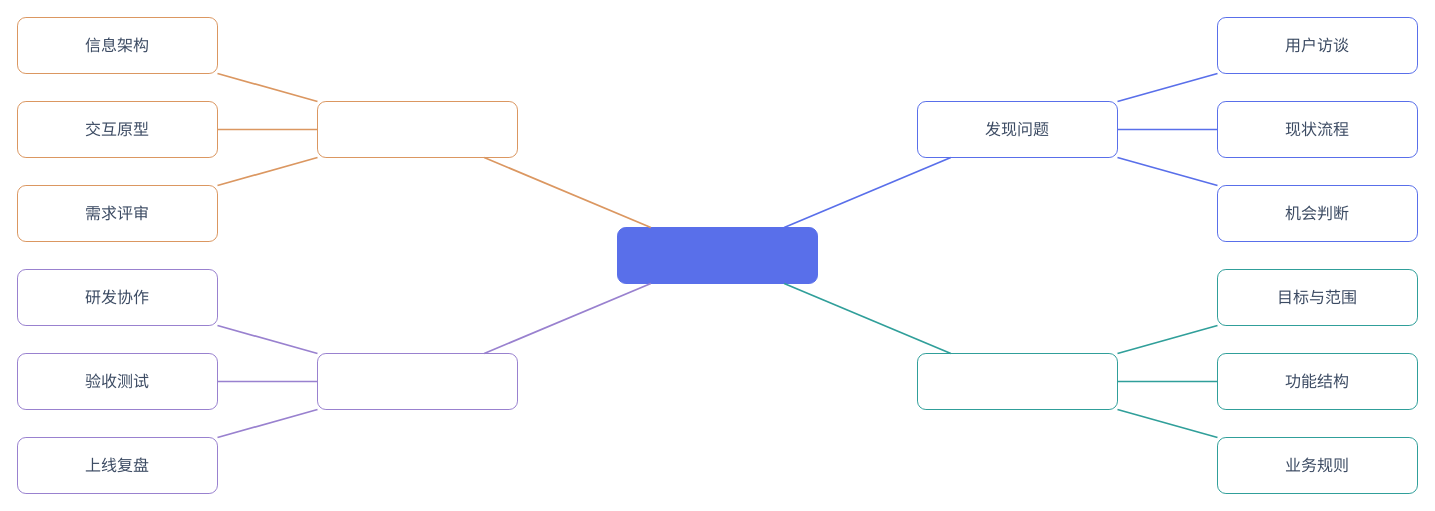
The diagram is 1435 pixels wide and 511 high, and some of its shapes have lost their labels. The centre of each missing label's shape, as x and y in pixels:
"产品从想法到交付" belongs at [717,255].
"定义方案" belongs at [1017,381].
"设计产品" belongs at [417,129].
"验证与交付" belongs at [417,381].
